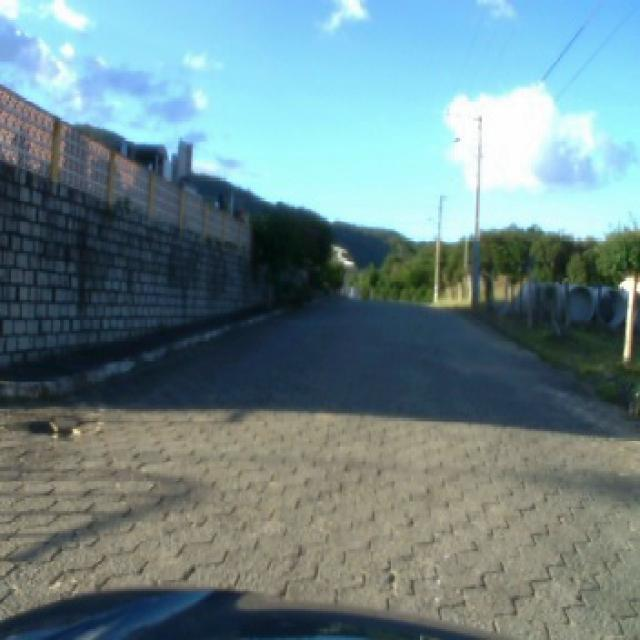Poth-hole: (5, 409, 100, 440)
